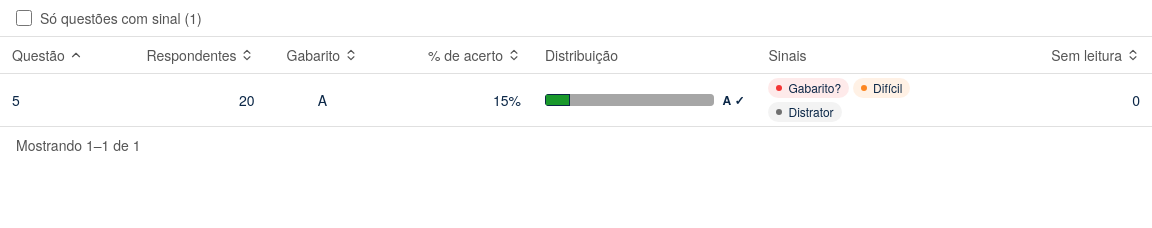
TabelaDeQuestoes — triagem (card 06) › ⚠️ o valor da discriminação vai no `title`, não em coluna própria
Hover over the element showing "Gabarito?" at (809, 88), box [768,78,849,98]
Wait 300 ms
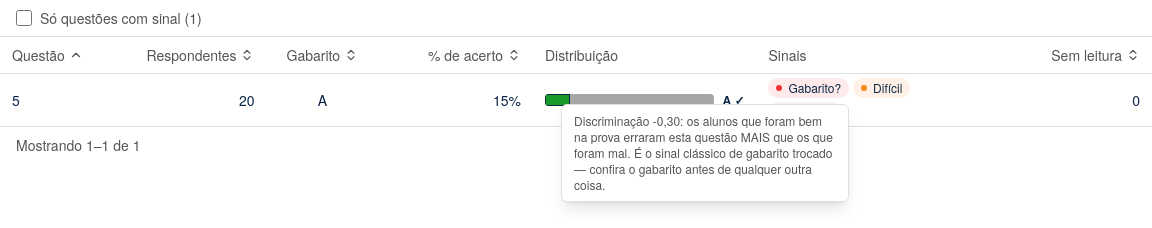
Expected: the tooltip shows "-0,30", [574,112,833,192]
